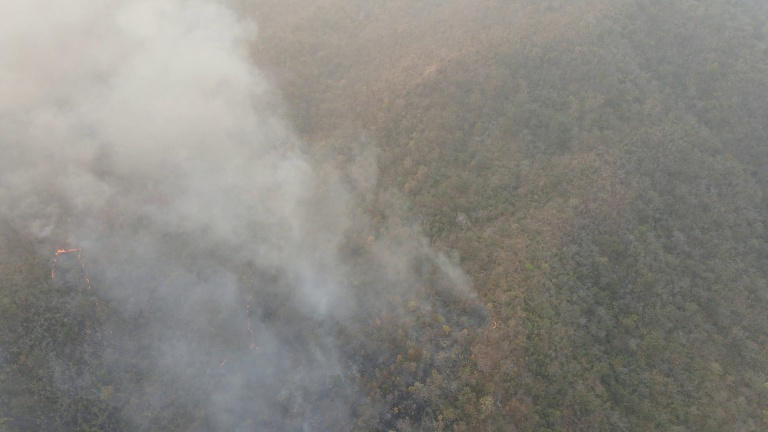fire: (218, 267, 255, 371), (462, 298, 501, 364), (50, 244, 90, 290)
smoke: (1, 1, 497, 430)
